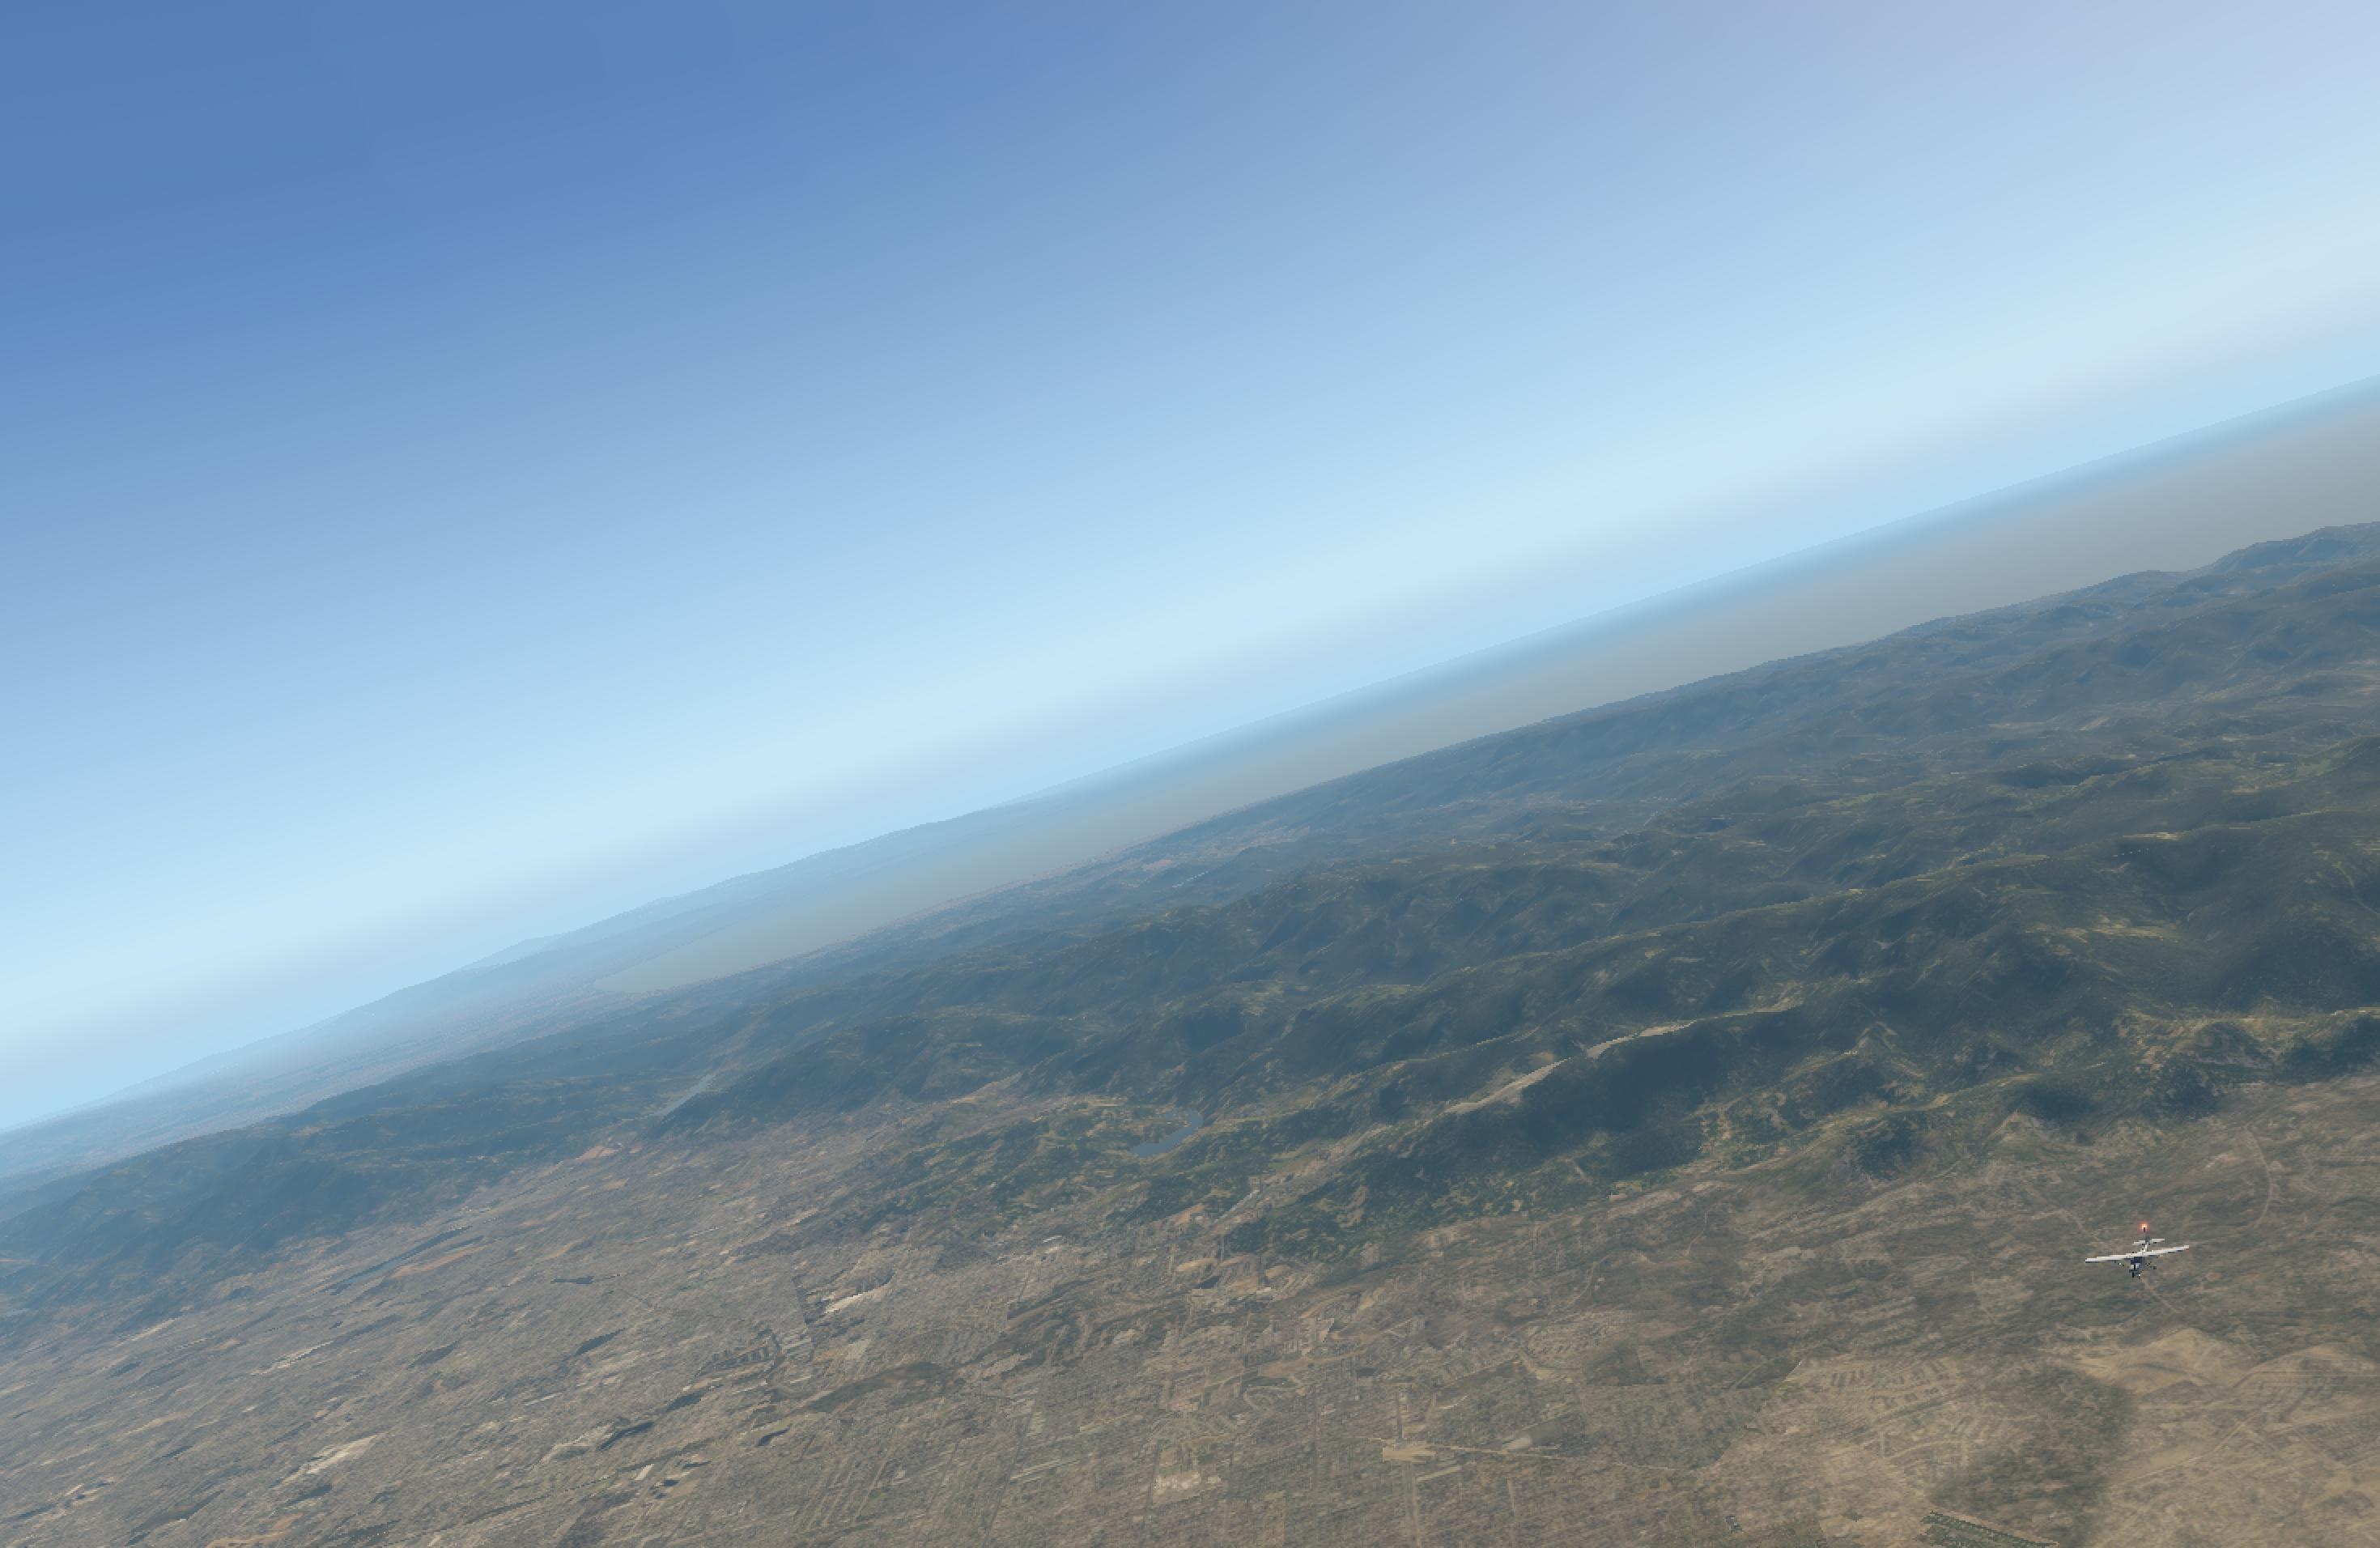aircraft: (2106, 1250, 2172, 1274)
